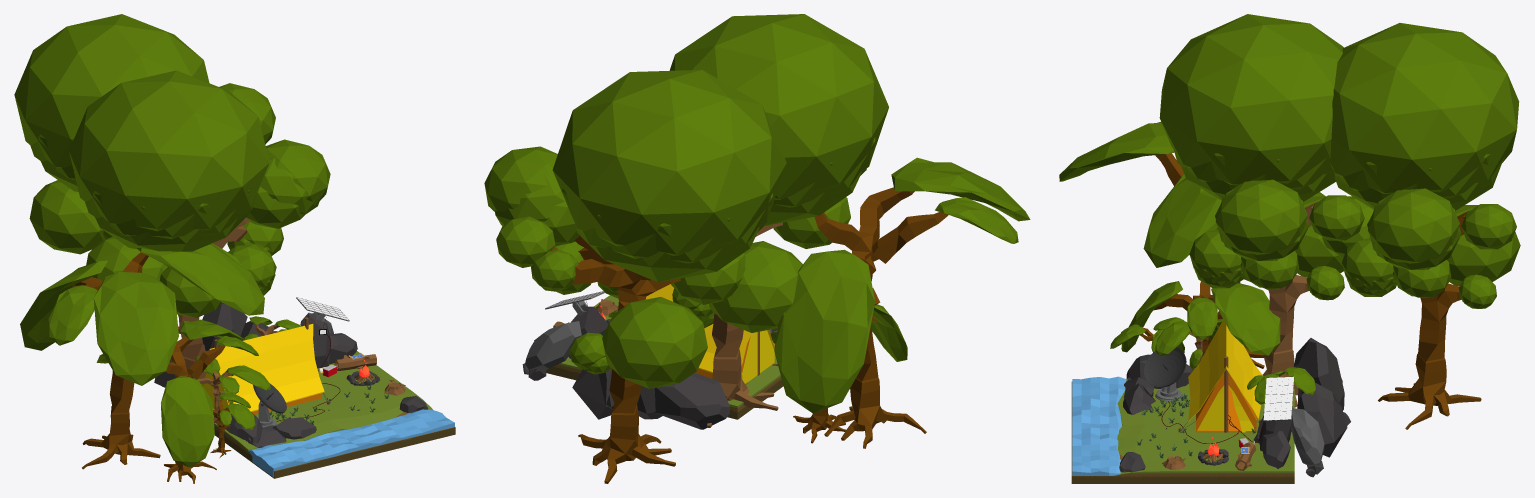
The model's file is camp_export8.glb.
The picture shows the model from 3 angles, left to right: view 1: azimuth 30°, elevation 25°; view 2: azimuth 150°, elevation 25°; view 3: azimuth 270°, elevation 25°; orthographic projection. The views are drawn at different scales.
Visible parts, largest first — view 1: Big tree leaves, Big tree leaves.001, Small Tree 2.003, Small Tree 2.002, Rock2.007, Tent-main.001, Rock2.003, Rock2.005, Rock_1.004, Rock2.009, Rock2.001, Small Tree 2.001 (+4 smaller); view 2: Big tree leaves.001, Big tree leaves, Small Tree 2.003, Big Tree.001, Rock2.009, Big Tree, Small Tree 2.002, Rock.001, Tent-main.002, Tent-main.001, Rock2.007, Rock2.001 (+1 smaller); view 3: Big tree leaves.001, Big tree leaves, Small Tree 2.003, Rock2.007, Small Tree 2.002, Rock2.003, Big Tree.001, Rock2.009, Tent-main.001, Big Tree, Rock2.005, Rock_1.004 (+11 smaller).
Boxes of the visible parts, <box> form: Big tree leaves: <box>69,70,330,317</box>; Big tree leaves.001: <box>14,14,275,254</box>; Small Tree 2.003: <box>20,243,264,469</box>; Small Tree 2.002: <box>96,319,258,483</box>; Rock2.007: <box>213,351,432,451</box>; Tent-main.001: <box>201,324,324,411</box>; Rock2.003: <box>248,409,454,477</box>; Rock2.005: <box>214,427,455,478</box>; Rock_1.004: <box>216,411,316,447</box>; Rock2.009: <box>154,303,273,387</box>; Rock2.001: <box>304,313,357,368</box>; Small Tree 2.001: <box>210,392,255,457</box>; Big tree leaves.001: <box>484,70,786,388</box>; Big tree leaves: <box>669,14,888,332</box>; Small Tree 2.003: <box>774,157,1030,448</box>; Big Tree.001: <box>550,235,680,483</box>; Rock2.009: <box>522,363,729,429</box>; Big Tree: <box>707,222,782,427</box>; Small Tree 2.002: <box>699,304,907,443</box>; Rock.001: <box>525,321,581,369</box>; Tent-main.002: <box>741,330,774,383</box>; Tent-main.001: <box>645,284,774,373</box>; Rock2.007: <box>558,295,780,408</box>; Rock2.001: <box>534,306,608,358</box>; Big tree leaves.001: <box>1322,23,1520,308</box>; Big tree leaves: <box>1159,14,1364,300</box>; Small Tree 2.003: <box>1059,122,1325,368</box>; Rock2.007: <box>1117,379,1294,474</box>; Small Tree 2.002: <box>1121,276,1280,355</box>; Rock2.003: <box>1072,376,1126,475</box>; Big Tree.001: <box>1378,210,1481,429</box>; Rock2.009: <box>1293,338,1350,477</box>; Tent-main.001: <box>1188,319,1262,421</box>; Big Tree: <box>1262,202,1316,407</box>; Rock2.005: <box>1071,476,1294,483</box>; Rock_1.004: <box>1123,354,1194,414</box>.
Bounding box in the file's own units: 15.94 × 15.6 × 16.55.
